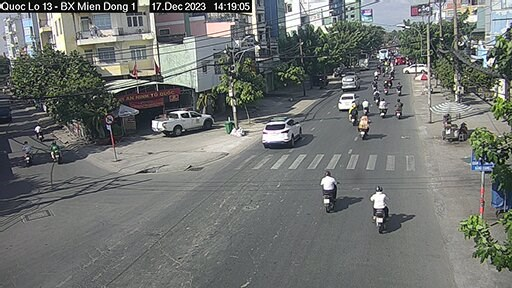car: (151, 109, 217, 139), (260, 116, 306, 146), (335, 89, 362, 113), (338, 72, 362, 92)
motorbike: (317, 165, 344, 218), (367, 185, 394, 232), (20, 140, 39, 166), (358, 112, 371, 140), (46, 143, 62, 162), (376, 98, 389, 121), (392, 99, 405, 119)
